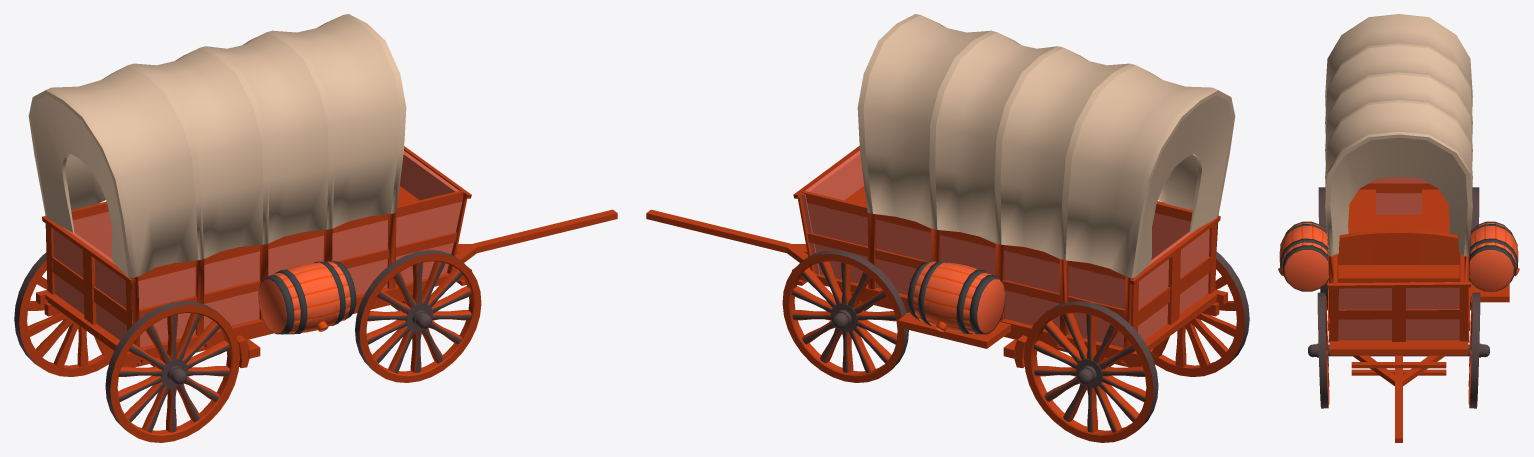
Rendered from wagon2.glb.
3 views of the same model, side by side, from view 1: azimuth 30°, elevation 25°; view 2: azimuth 150°, elevation 25°; view 3: azimuth 270°, elevation 25° (orthographic). The views are drawn at different scales.
Visible parts, largest first — view 1: Wagon2_Medieval_0; view 2: Wagon2_Medieval_0; view 3: Wagon2_Medieval_0.
Boxes of the visible parts, x1=… form: Wagon2_Medieval_0: x1=14, y1=14, x2=617, y2=442; Wagon2_Medieval_0: x1=646, y1=14, x2=1249, y2=442; Wagon2_Medieval_0: x1=1278, y1=14, x2=1519, y2=442.
Bounding box in the file's own units: 3.61 × 2.04 × 1.66.
1 material, 1 textured.
